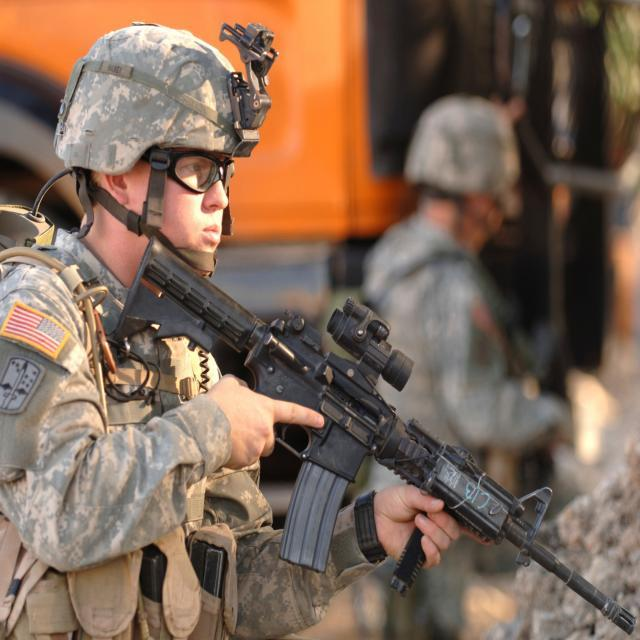m16: (106, 195, 640, 637)
